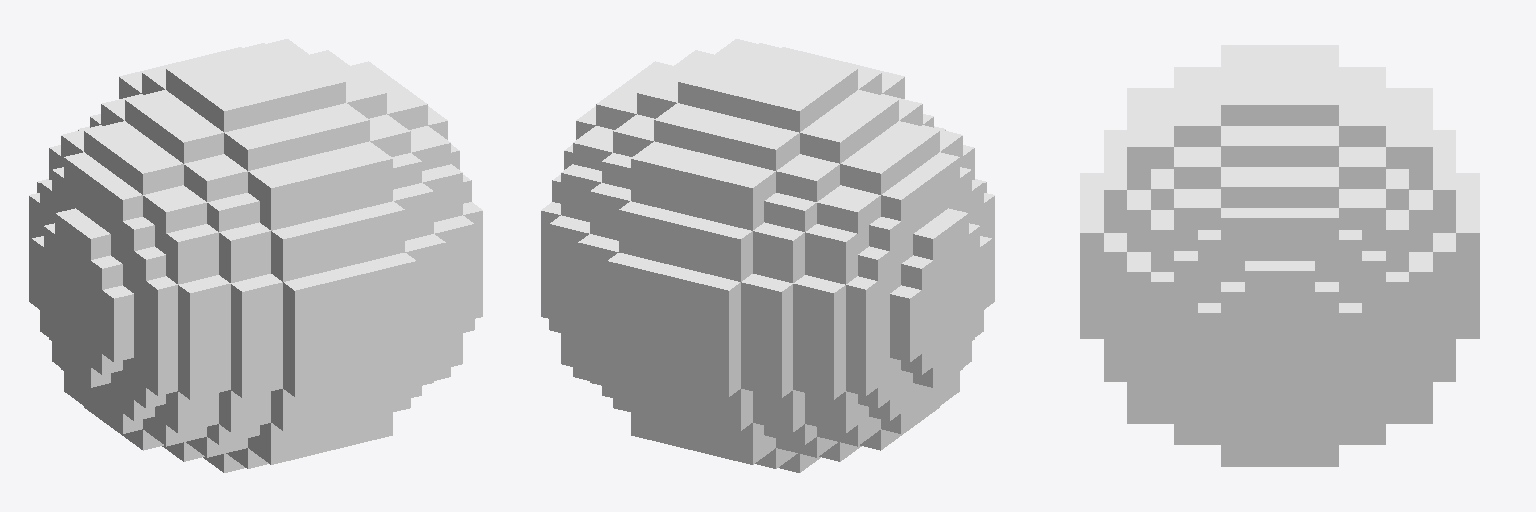
Rendered from Pellet.obj.
The picture shows the model from 3 angles: view 1: azimuth 30°, elevation 25°; view 2: azimuth 150°, elevation 25°; view 3: azimuth 270°, elevation 25°; orthographic projection.
Parts seen in each view (by area): view 1: object 1; view 2: object 1; view 3: object 1.
Boxes of the visible parts, <box> form: object 1: <box>29,39,482,472</box>; object 1: <box>541,39,994,472</box>; object 1: <box>1080,45,1479,466</box>.
Bounding box in the file's own units: 1.8 × 1.7 × 1.7.